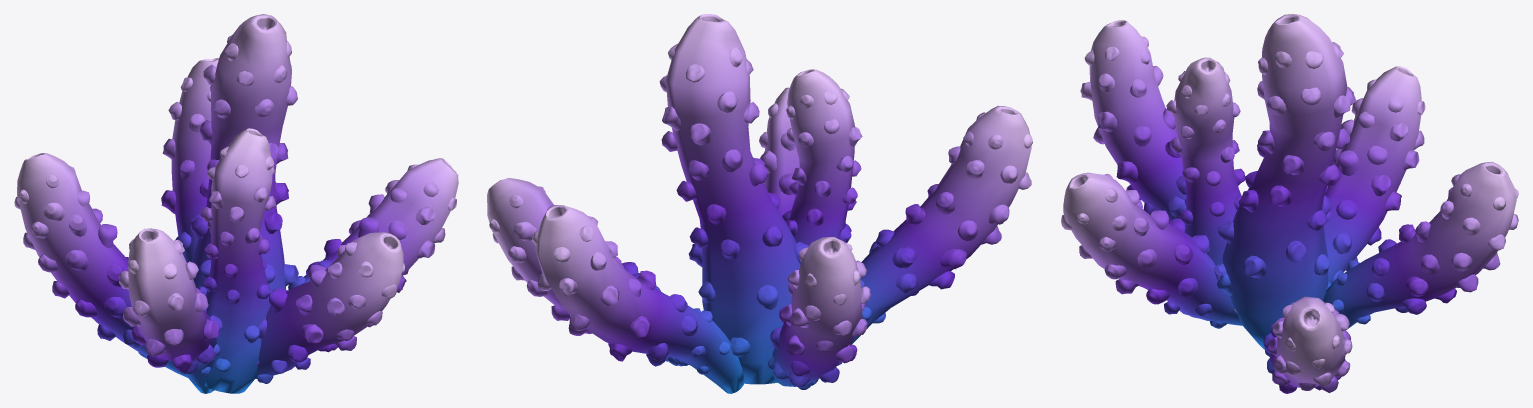
Rendered from plant_54.fbx.
3 renders of one model, left to right at view 1: azimuth 30°, elevation 25°; view 2: azimuth 150°, elevation 25°; view 3: azimuth 270°, elevation 25°, orthographic. The views are drawn at different scales.
Parts seen in each view (by area): view 1: shanhu_04_coral_s006; view 2: shanhu_04_coral_s006; view 3: shanhu_04_coral_s006.
Part boxes in pixels (left/top/right/bottom): shanhu_04_coral_s006: left=14, top=14, right=458, bottom=393; shanhu_04_coral_s006: left=487, top=14, right=1032, bottom=393; shanhu_04_coral_s006: left=1061, top=14, right=1518, bottom=393.
Bounding box in the file's own units: 10.06 × 7.77 × 9.3.
